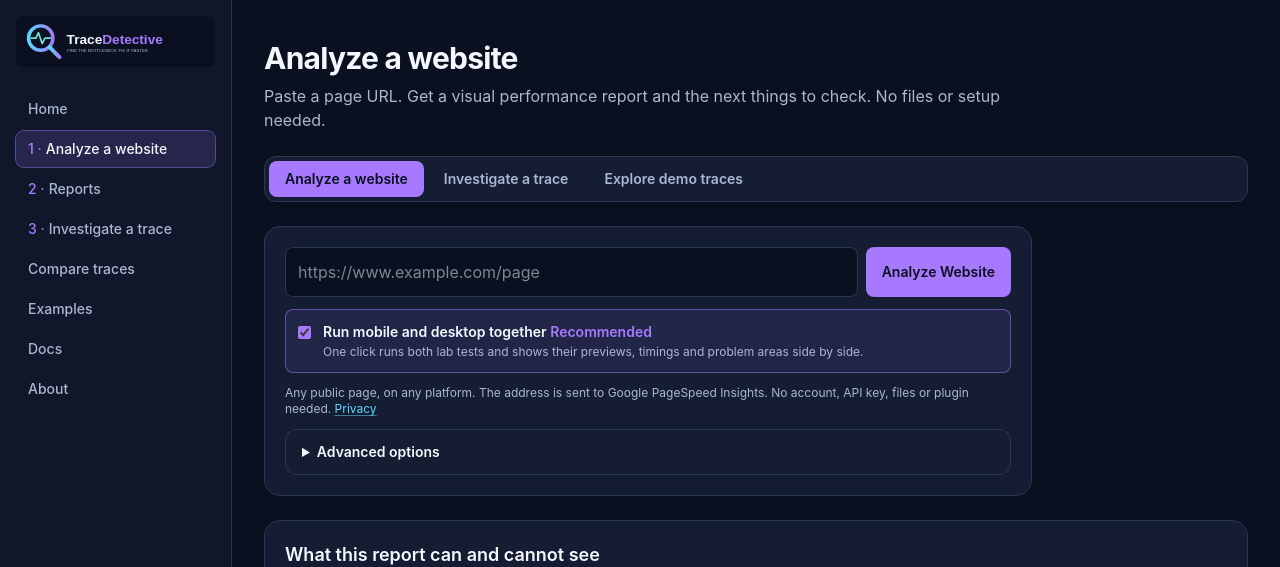
Test case: website analysis › refuses private addresses before any request is made
The width and height of the screenshot is (1280, 567).
Type "http://192.168.1.1/admin" into the field named "Website URL" at (571, 272), box [285,247,858,297]
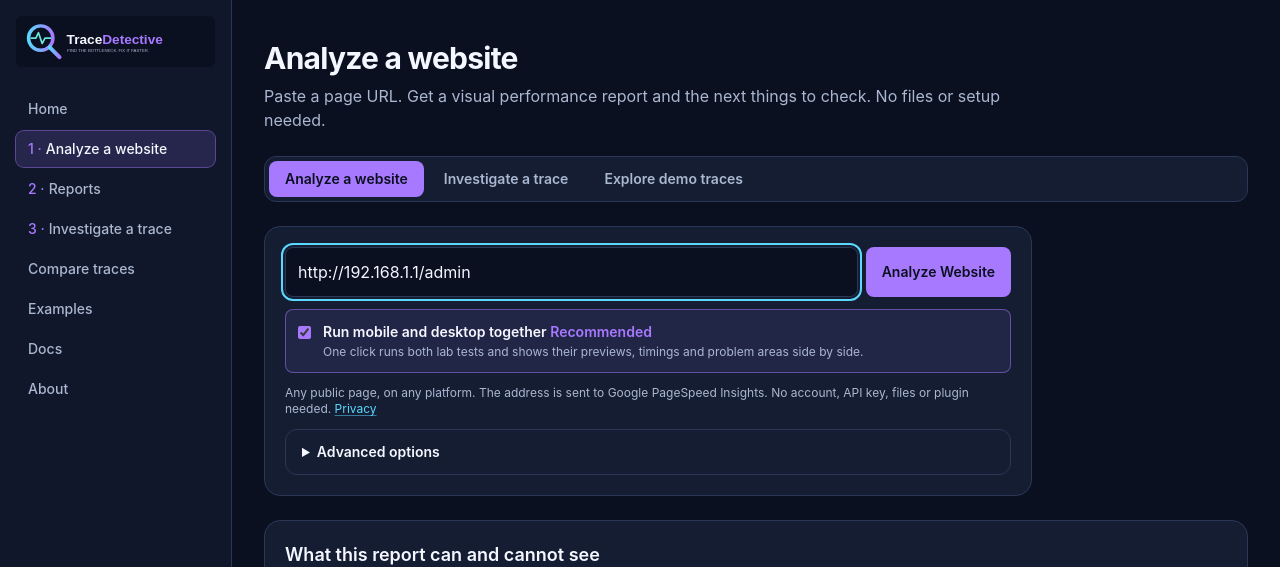
Click the button "Analyze Website" at (938, 272), box [866,247,1011,297]
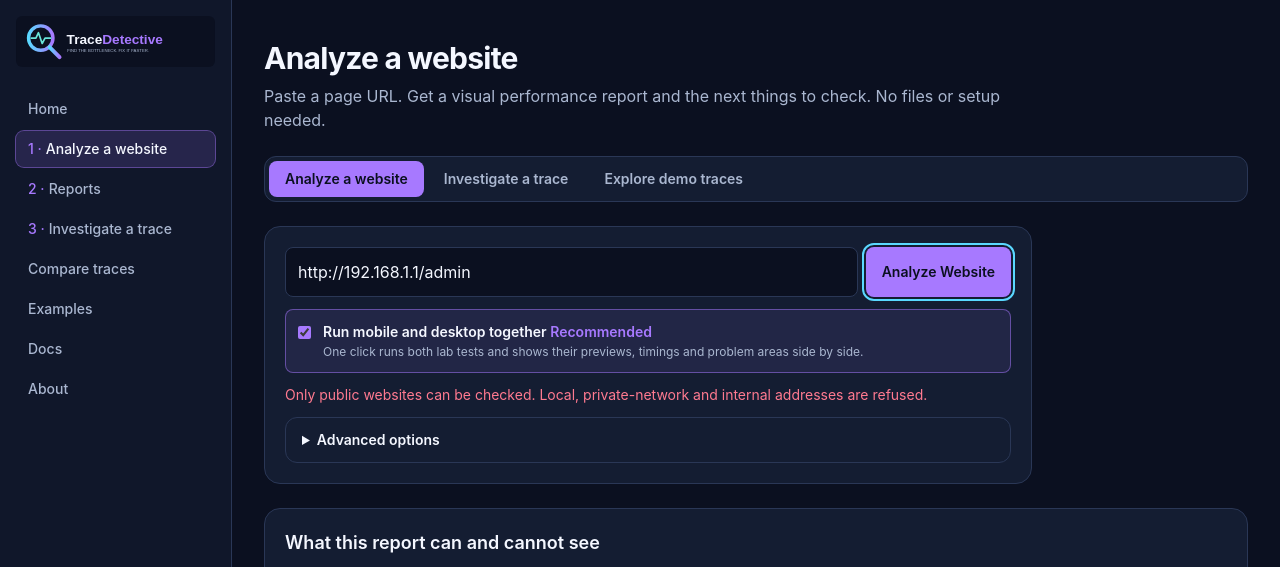
Result: the message shows "public websites" at [285,386,927,403]
